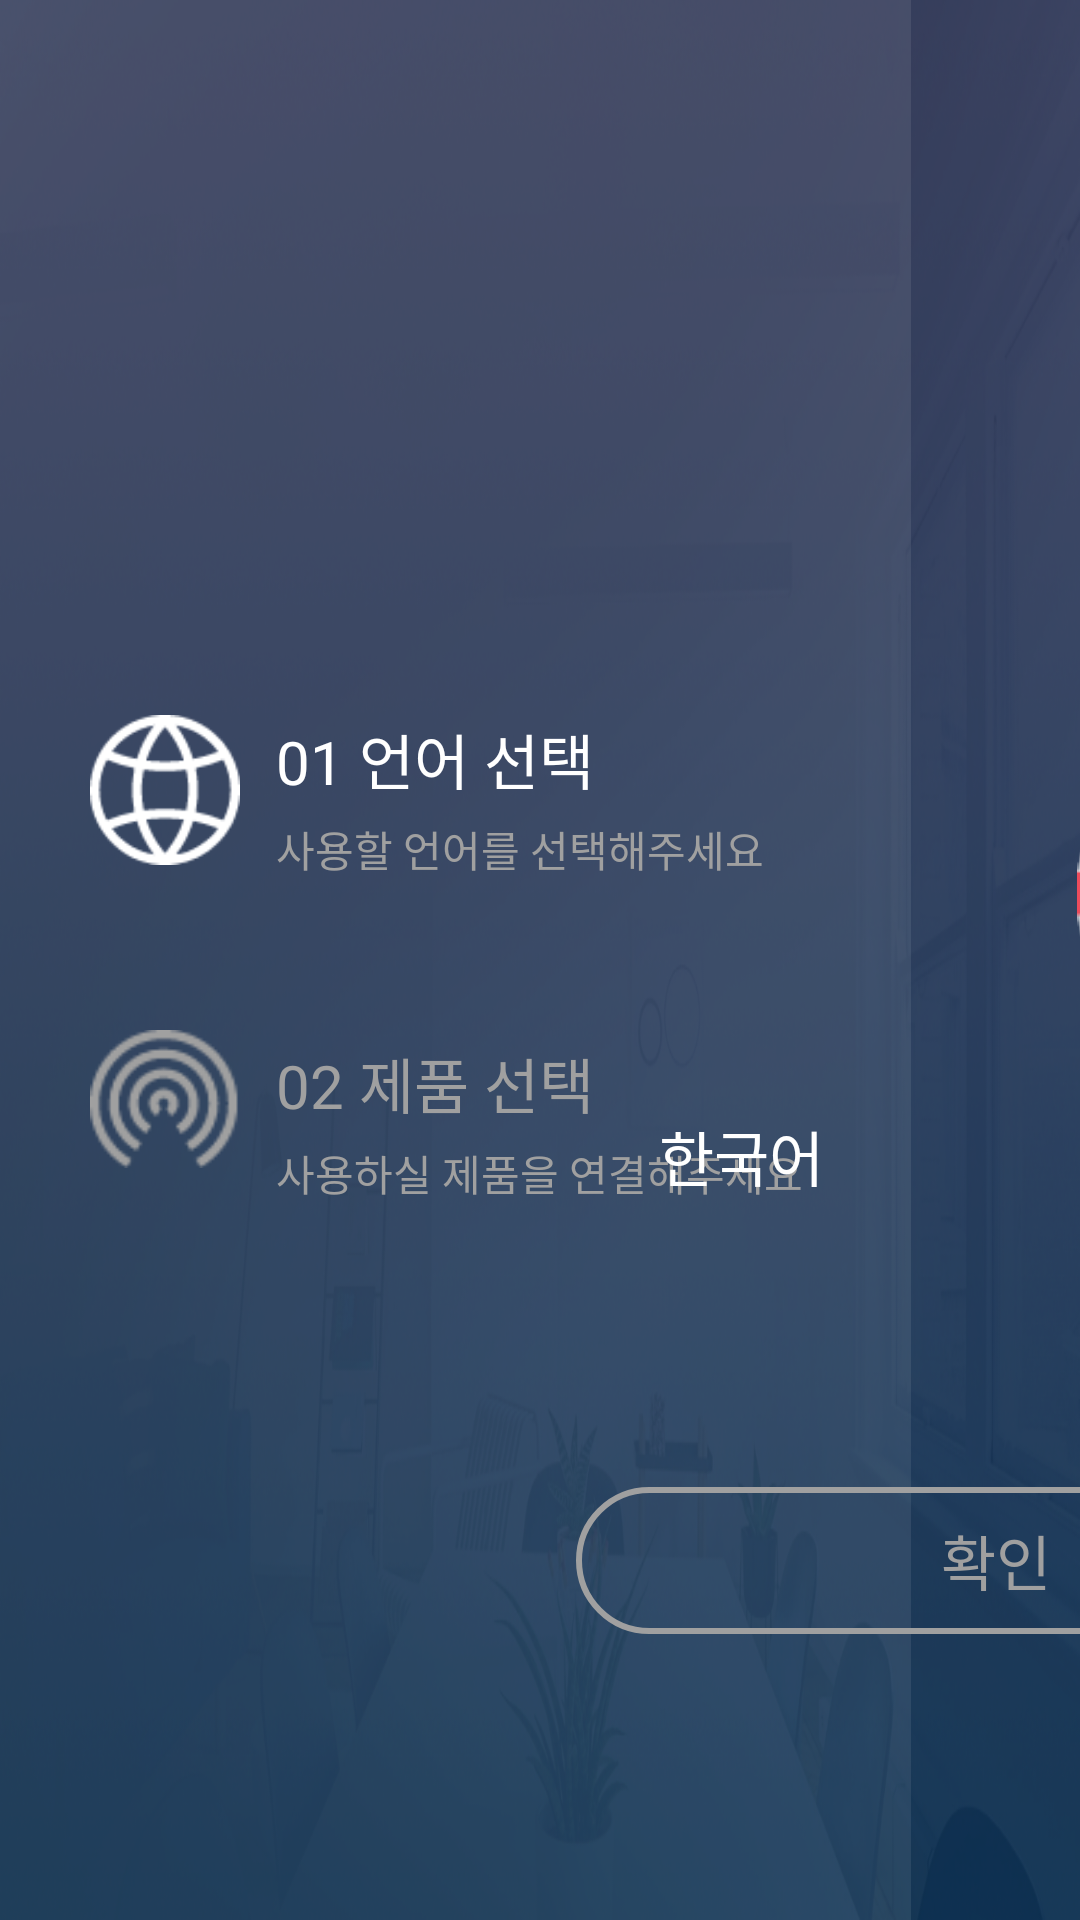

Where icons sit on this 1080×1920 app screen, as (x1, y1, x2, y2):
conn: (90, 1030, 238, 1168)
lang: (90, 715, 240, 865)
